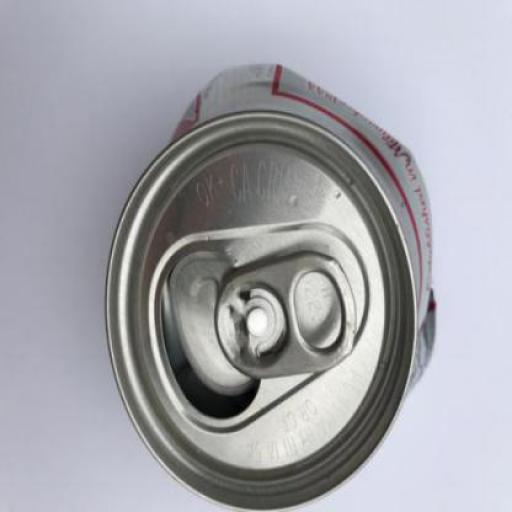metal: (105, 65, 438, 510)
